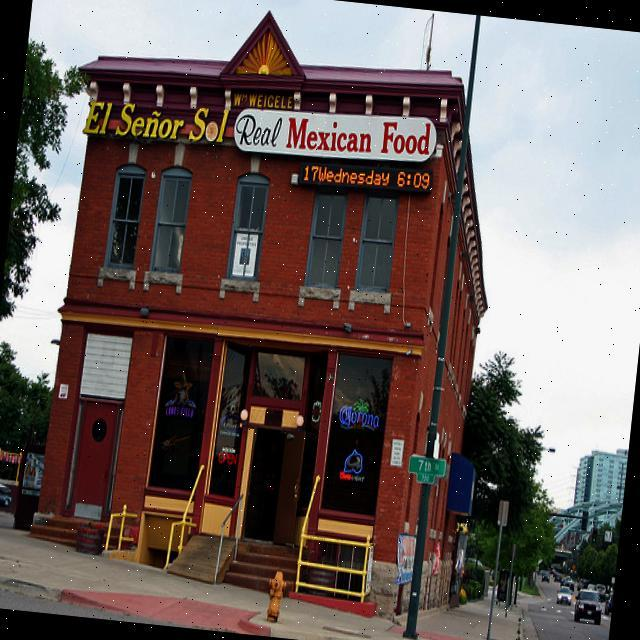fire_hydrant: (264, 568, 290, 622)
